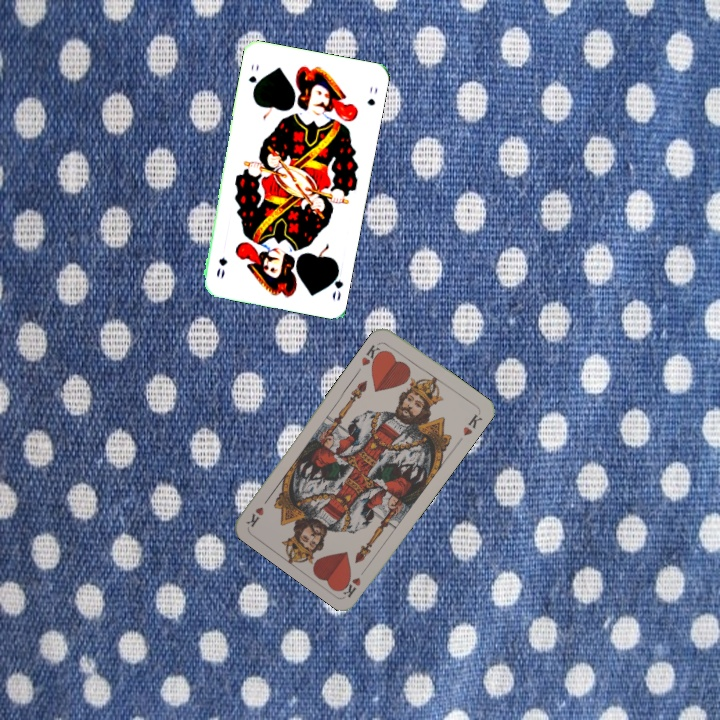GO: (325, 262, 346, 303), (245, 60, 261, 96)
HK: (337, 562, 371, 600), (357, 338, 386, 370)
